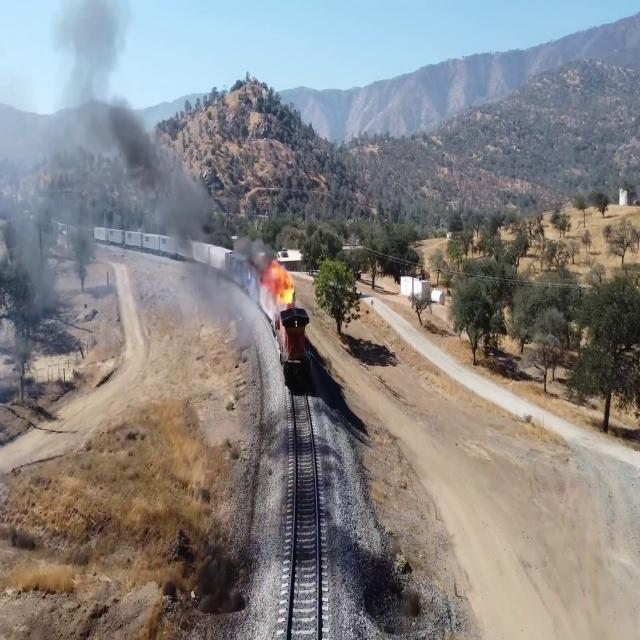Fire: (266, 255, 304, 311)
Smoke: (74, 0, 119, 117)
